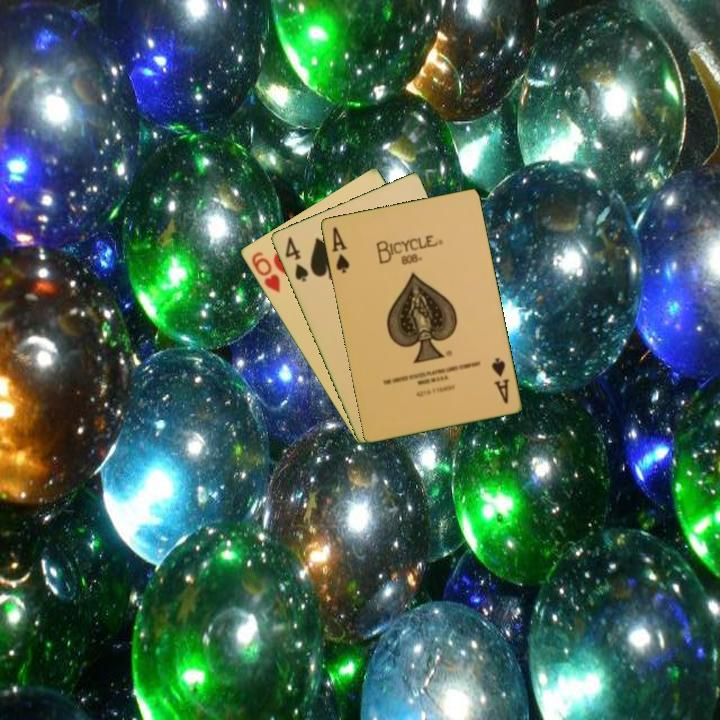4s: (281, 233, 311, 285)
6h: (247, 248, 283, 296)
As: (328, 223, 352, 276), (488, 354, 512, 406)
